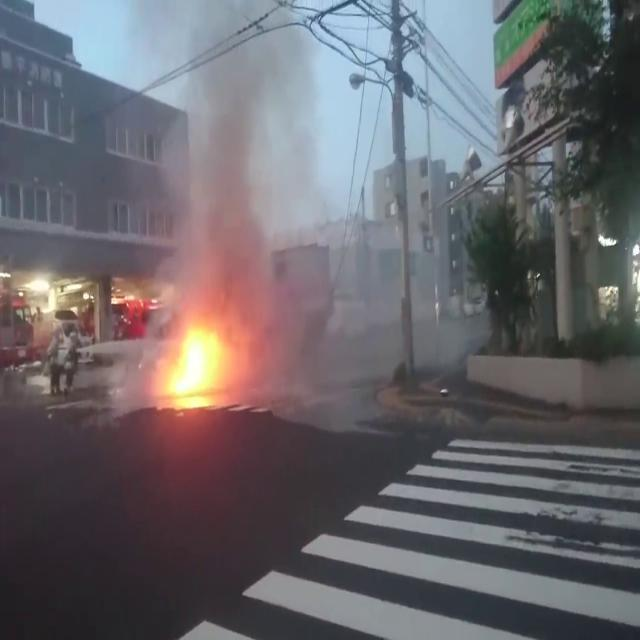Fire: (162, 327, 216, 394)
Smoke: (106, 12, 320, 393)
